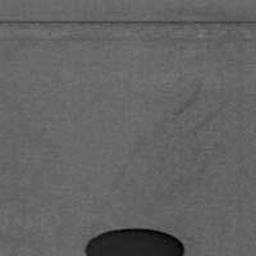Punching: (83, 228, 186, 256)
